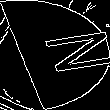N_W: (8, 30, 102, 80)
